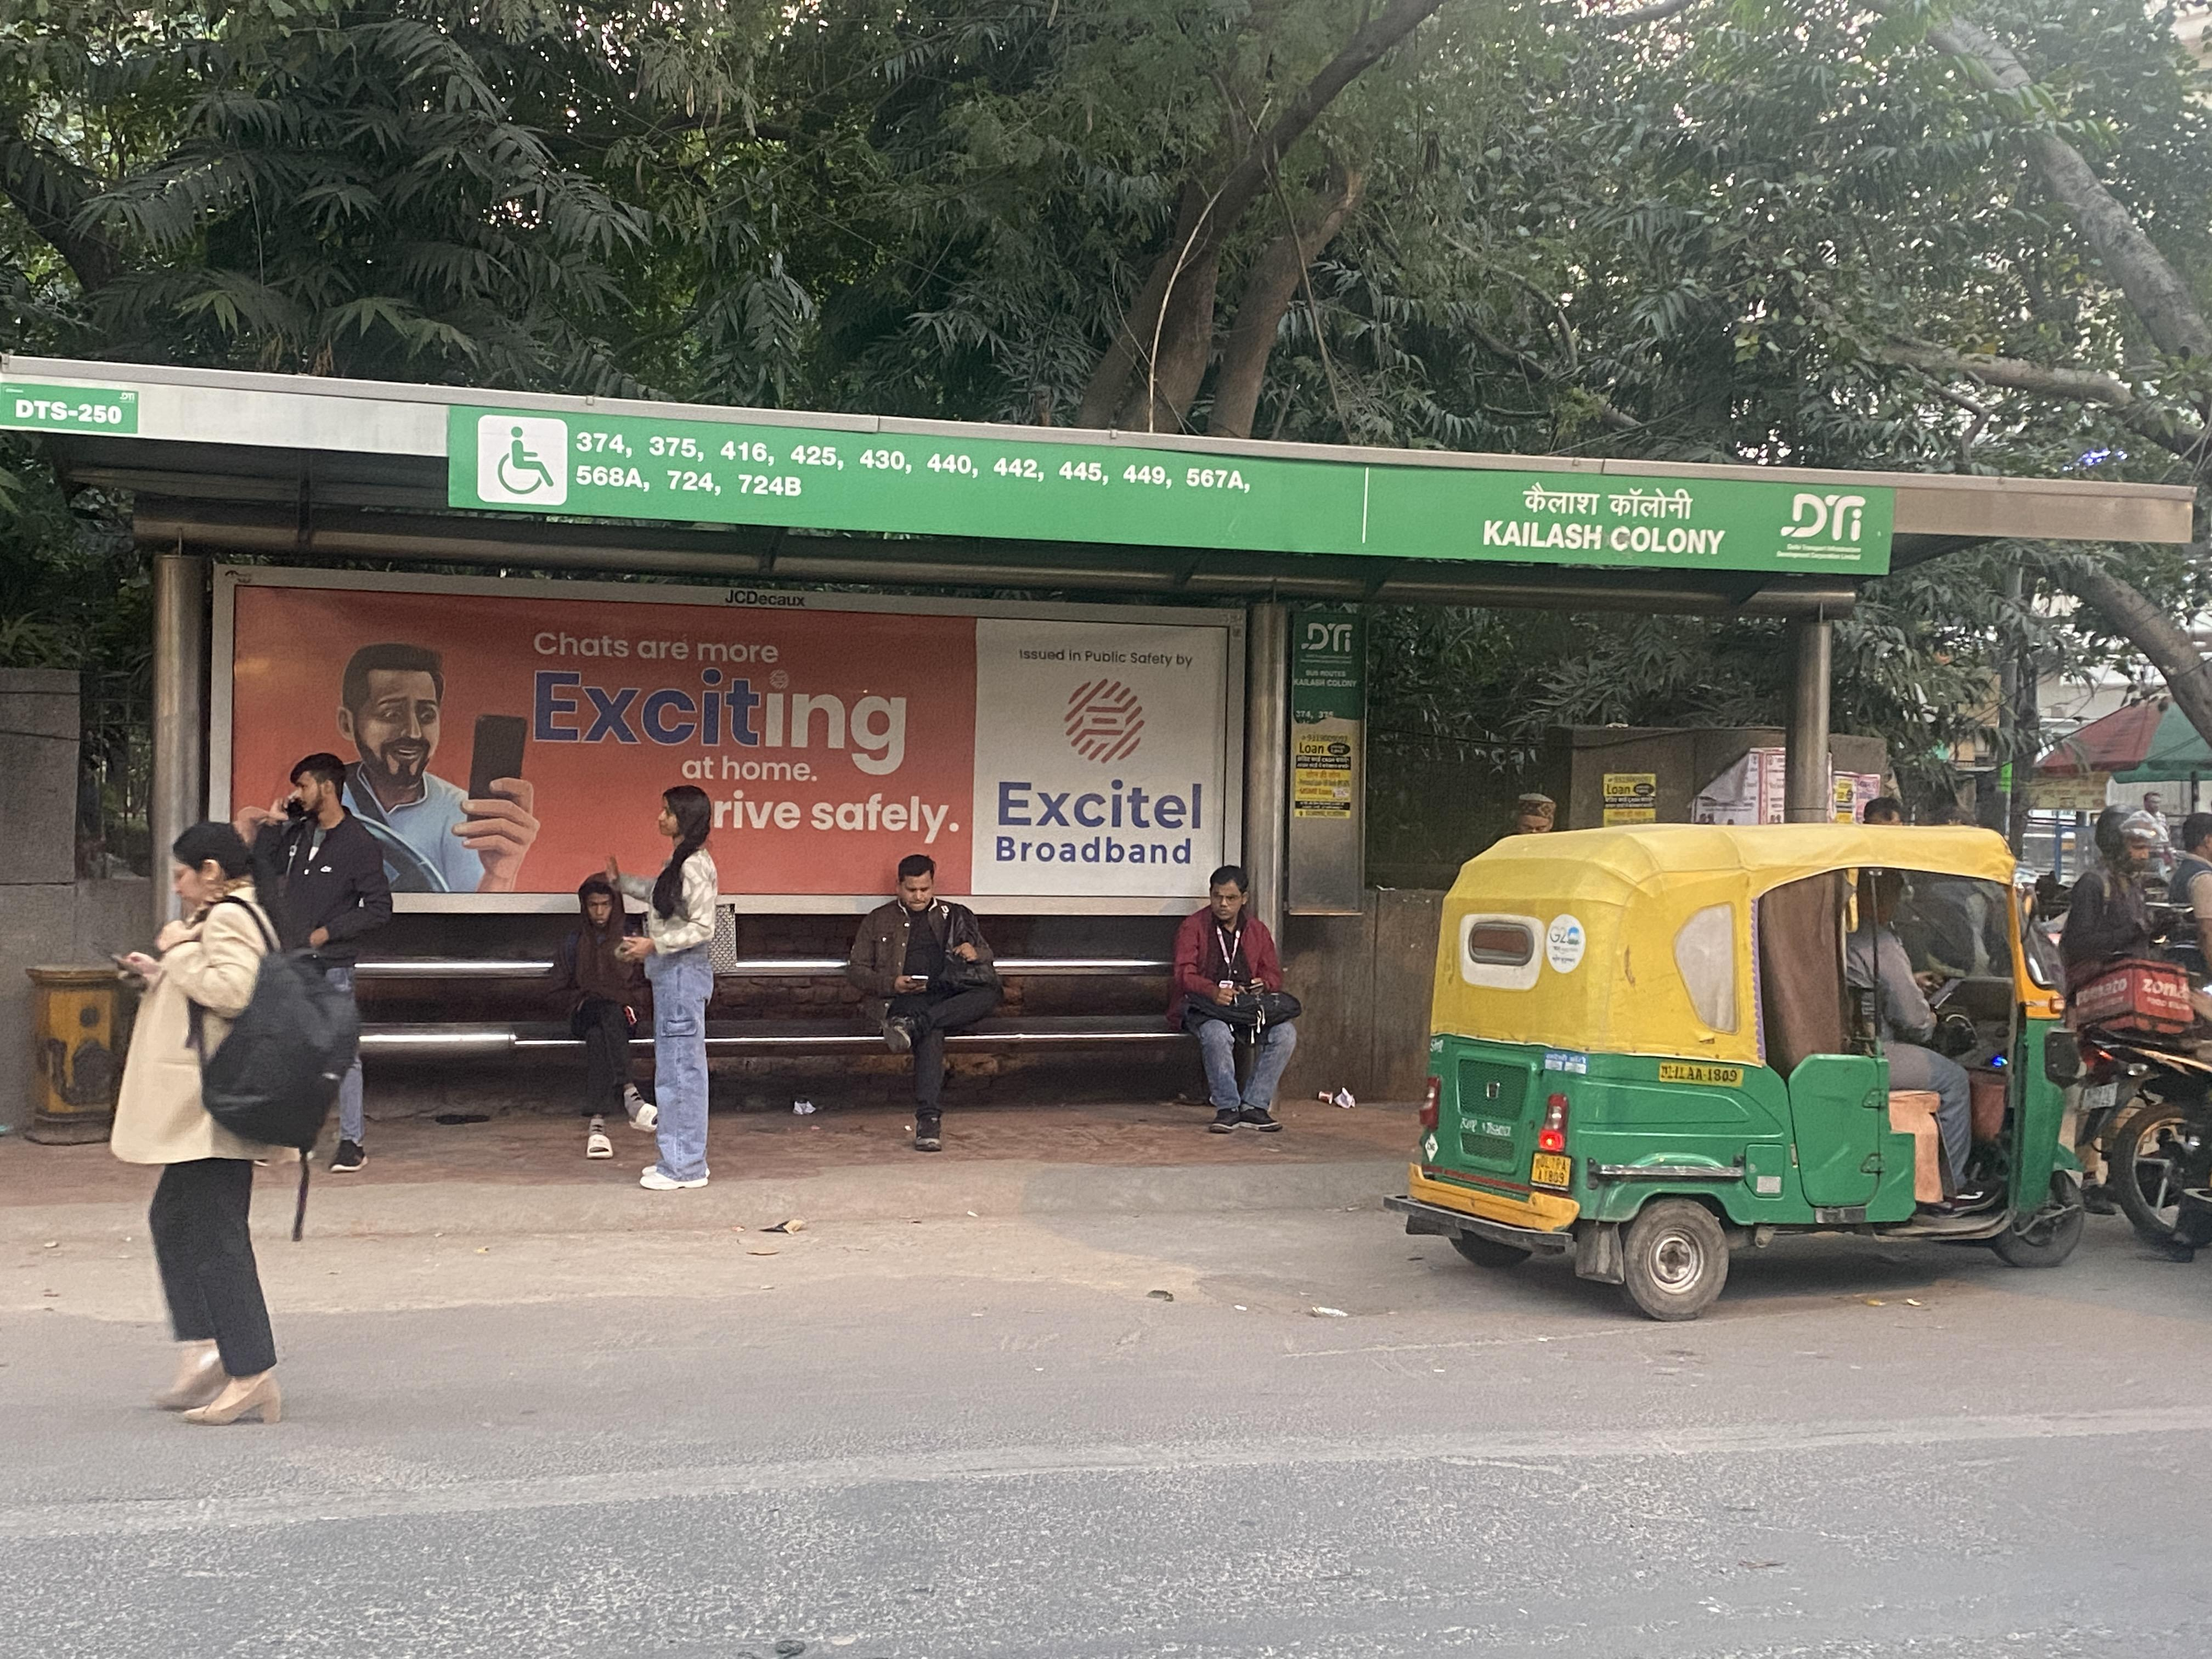Bus-stop-board: (449, 378, 1909, 608)
